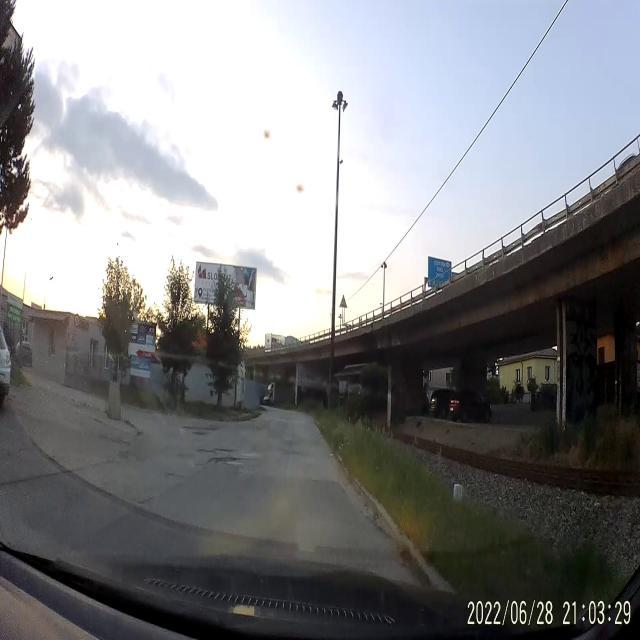Pothole: (206, 456, 245, 468), (164, 469, 186, 481), (191, 430, 208, 440), (195, 446, 212, 454), (214, 446, 232, 452)
